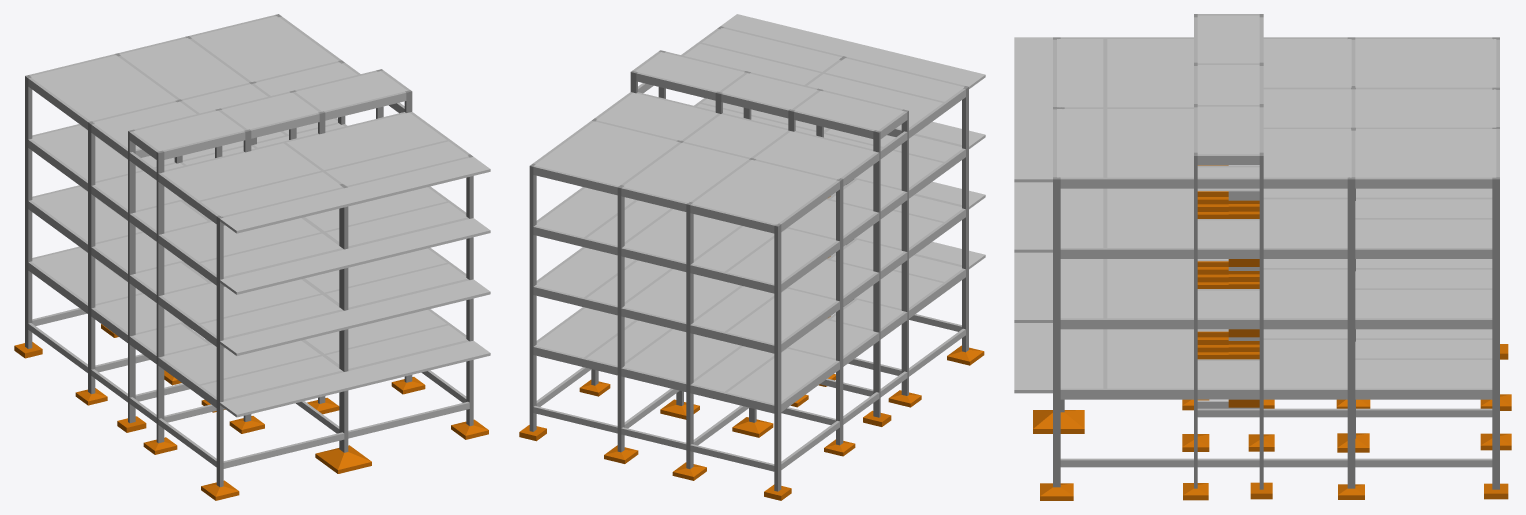
Rendered from projeto_estrutural_-_edificio_patio.glb.
The picture shows the model from 3 angles, left to right: view 1: azimuth 30°, elevation 25°; view 2: azimuth 150°, elevation 25°; view 3: azimuth 270°, elevation 25°; orthographic projection. The views are drawn at different scales.
Visible parts, largest first — view 1: Cobertura-Concrdadoajes, Tipo_3-Concrdadoajes, Tipo_2-Concrdadoajes, Tipo_1-Concrdadoajes, Caixa_Dagua-Concrdadoajes, Cobertura-Concrdadoigas, T_rreo-Concrdadoigas, T_rreo-Concrdo_i__es, Tipo_3-Concrdadoigas, Tipo_2-Concrdadoigas, Tipo_1-Concrdadoigas, Cobertura-Concrado_ares (+6 smaller); view 2: Cobertura-Concrdadoajes, Tipo_3-Concrdadoajes, Tipo_2-Concrdadoajes, Tipo_1-Concrdadoajes, Cobertura-Concrdadoigas, T_rreo-Concrdadoigas, Caixa_Dagua-Concrdadoajes, Tipo_3-Concrdadoigas, Tipo_1-Concrdadoigas, Tipo_2-Concrdadoigas, T_rreo-Concrdo_i__es, Cobertura-Concrado_ares (+6 smaller); view 3: Cobertura-Concrdadoajes, Tipo_3-Concrdadoajes, Tipo_2-Concrdadoajes, Tipo_1-Concrdadoajes, Cobertura-Concrdadoigas, Caixa_Dagua-Concrdadoajes, T_rreo-Concrdadoigas, Tipo_3-Concrdadoigas, Tipo_1-Concrdadoigas, Tipo_2-Concrdadoigas, T_rreo-Concrdo_i__es, Cobertura-Concrado_ares (+8 smaller).
Part boxes in pixels (<box>): Cobertura-Concrdadoajes: <box>30,16,490,233</box>; Tipo_3-Concrdadoajes: <box>31,118,490,294</box>; Tipo_2-Concrdadoajes: <box>31,186,490,355</box>; Tipo_1-Concrdadoajes: <box>31,248,490,417</box>; Caixa_Dagua-Concrdadoajes: <box>133,71,407,151</box>; Cobertura-Concrdadoigas: <box>28,15,469,225</box>; T_rreo-Concrdadoigas: <box>28,308,469,468</box>; T_rreo-Concrdo_i__es: <box>14,324,488,500</box>; Tipo_3-Concrdadoigas: <box>28,118,469,286</box>; Tipo_2-Concrdadoigas: <box>28,185,469,348</box>; Tipo_1-Concrdadoigas: <box>28,246,469,409</box>; Cobertura-Concrado_ares: <box>25,14,473,279</box>; Cobertura-Concrdadoajes: <box>534,14,985,224</box>; Tipo_3-Concrdadoajes: <box>535,98,985,283</box>; Tipo_2-Concrdadoajes: <box>535,181,985,343</box>; Tipo_1-Concrdadoajes: <box>535,242,985,403</box>; Cobertura-Concrdadoigas: <box>533,27,965,233</box>; T_rreo-Concrdadoigas: <box>533,314,965,471</box>; Caixa_Dagua-Concrdadoajes: <box>635,52,903,130</box>; Tipo_3-Concrdadoigas: <box>533,98,965,293</box>; Tipo_1-Concrdadoigas: <box>533,254,965,413</box>; Tipo_2-Concrdadoigas: <box>533,194,965,353</box>; T_rreo-Concrdo_i__es: <box>519,345,984,500</box>; Cobertura-Concrado_ares: <box>529,26,968,286</box>; Cobertura-Concrdadoajes: <box>1014,37,1496,182</box>; Tipo_3-Concrdadoajes: <box>1014,167,1492,252</box>; Tipo_2-Concrdadoajes: <box>1014,252,1492,322</box>; Tipo_1-Concrdadoajes: <box>1014,323,1492,393</box>; Cobertura-Concrdadoigas: <box>1053,37,1499,188</box>; Caixa_Dagua-Concrdadoajes: <box>1197,15,1259,154</box>; T_rreo-Concrdadoigas: <box>1060,400,1492,467</box>; Tipo_3-Concrdadoigas: <box>1060,165,1492,258</box>; Tipo_1-Concrdadoigas: <box>1060,329,1492,399</box>; Tipo_2-Concrdadoigas: <box>1060,259,1492,329</box>; T_rreo-Concrdo_i__es: <box>1033,344,1511,500</box>; Cobertura-Concrado_ares: <box>1053,37,1499,249</box>.
Size of the model in its own units: 1400 by 1450 by 1925.
